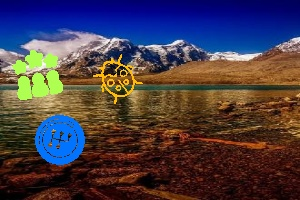七星瓢虫: (94, 53, 143, 102)
三朵花: (13, 51, 63, 96)
圆饼: (35, 114, 86, 164)
